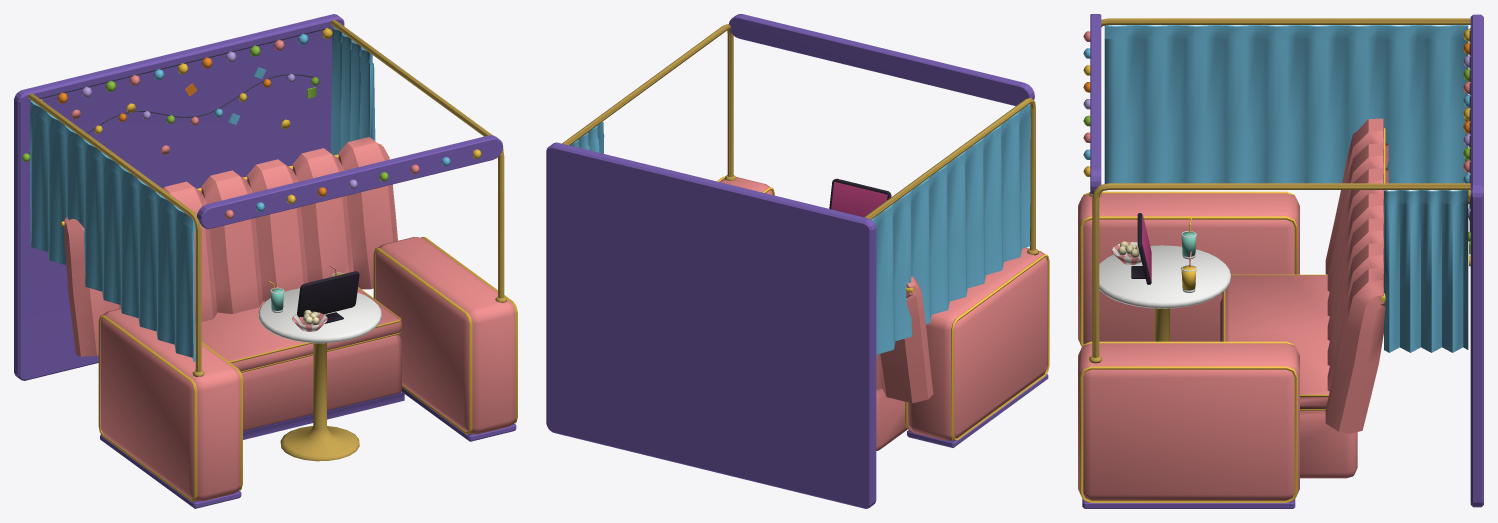
File: partyBooth.glb
3 renders of one model, left to right at view 1: azimuth 30°, elevation 25°; view 2: azimuth 150°, elevation 25°; view 3: azimuth 270°, elevation 25°, orthographic. The views are drawn at different scales.
Visible parts, largest first — view 1: body, curtain; view 2: body, curtain; view 3: body, curtain.
Part boxes in pixels (box(x1,y1,x2,y2)): body: box(14, 14, 517, 508); curtain: box(30, 100, 195, 361); body: box(546, 14, 1049, 508); curtain: box(871, 104, 1030, 359); body: box(1078, 14, 1483, 508); curtain: box(1104, 25, 1468, 183).
Bounding box in the file's own units: 1.9 × 1.64 × 1.83.
